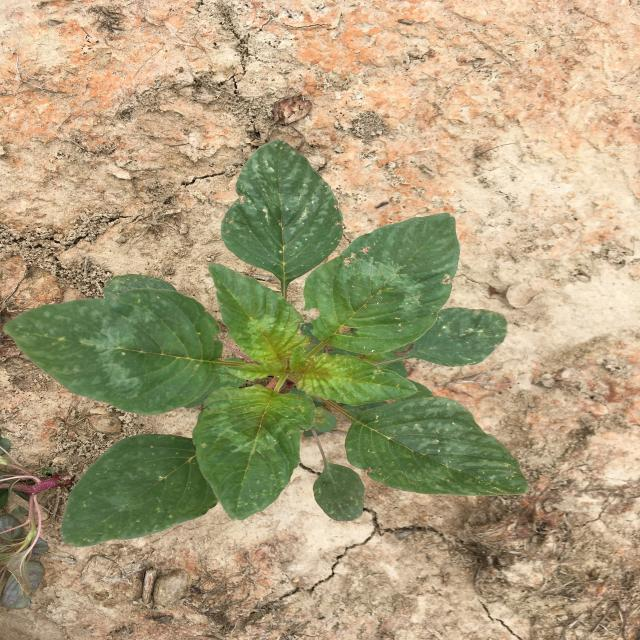PalmerAmaranth: (4, 139, 530, 548)
